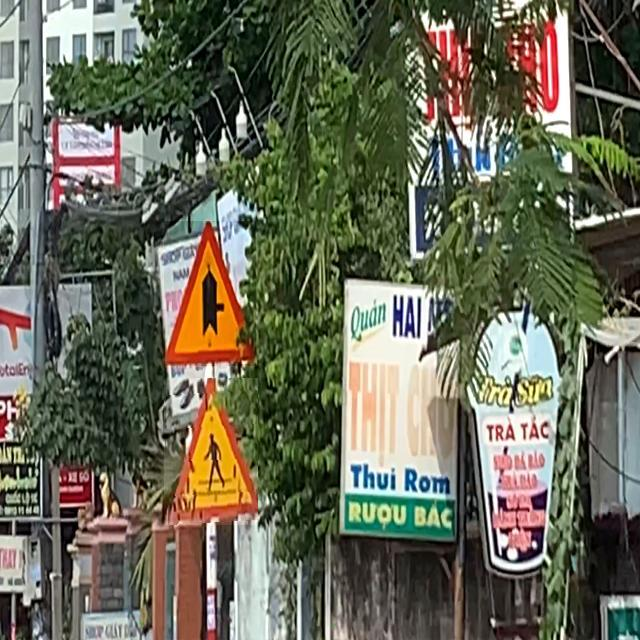W-207b: (164, 221, 256, 366)
W-224: (164, 378, 258, 525)
